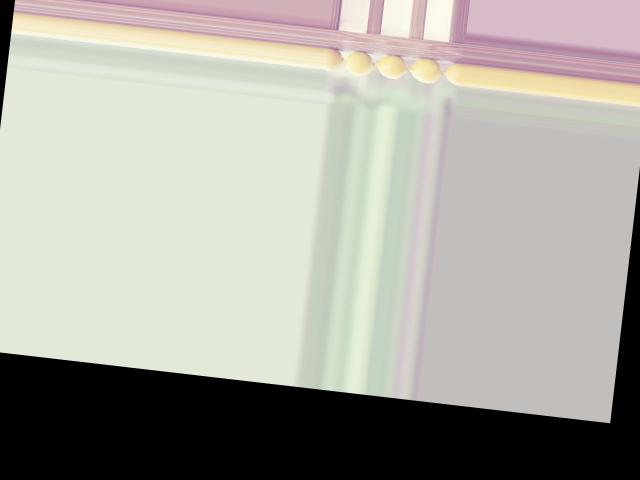lemon: (443, 62, 462, 86)
